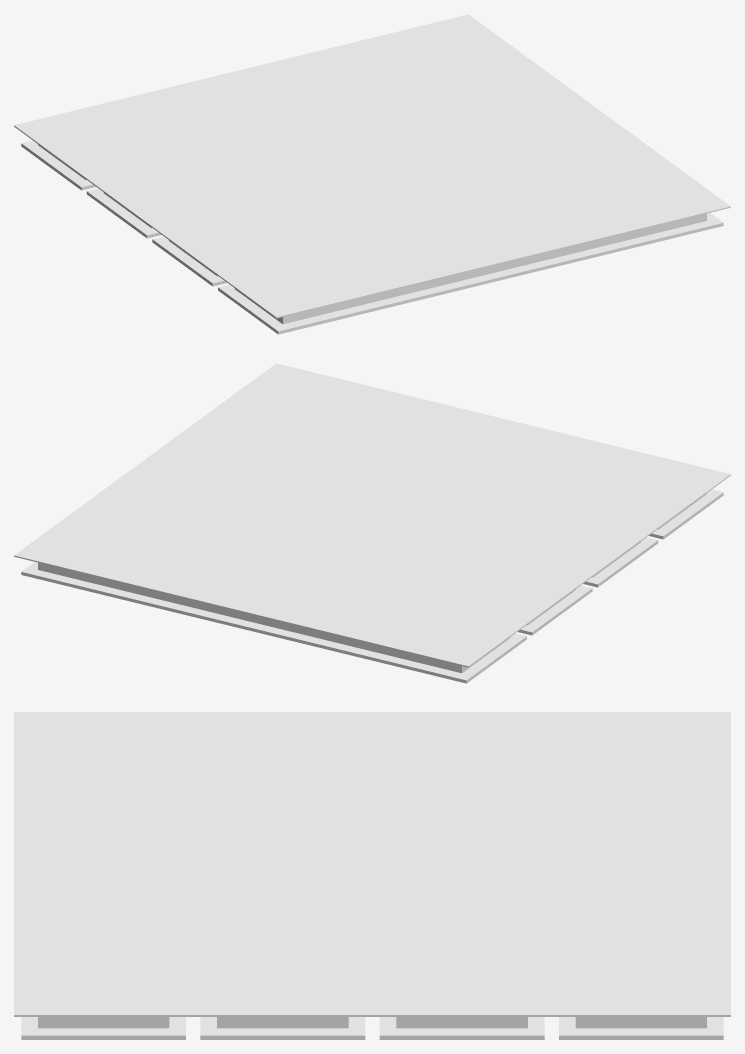
File: Ceiling0003.obj
The picture shows the model from 3 angles, top to bottom: view 1: azimuth 30°, elevation 25°; view 2: azimuth 150°, elevation 25°; view 3: azimuth 270°, elevation 25°; orthographic projection. The views are drawn at different scales.
Bounding box in the file's own units: 3 × 0.128 × 3.
Materials: 1 (1 with a texture image).
